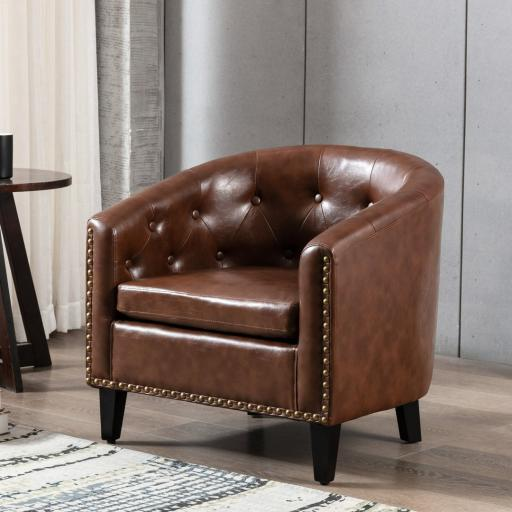chair: (80, 132, 468, 491)
